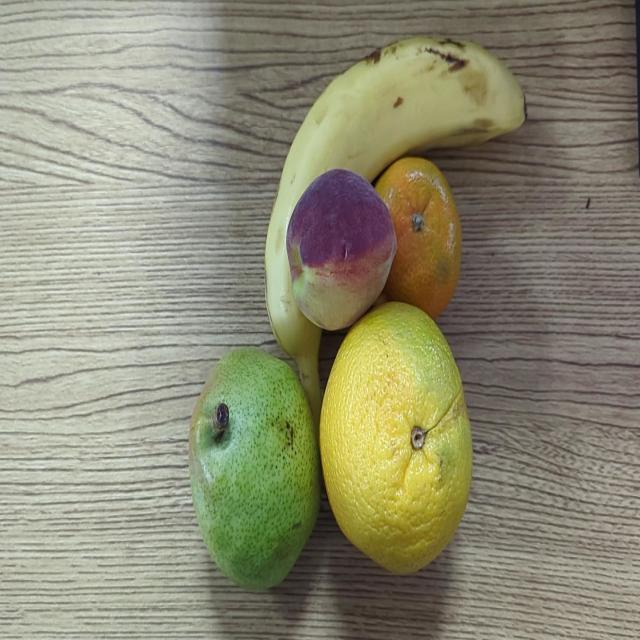Jeruk: (322, 307, 472, 575)
Jeruk Mandarin: (383, 157, 458, 317)
Persik: (290, 186, 396, 310)
Pir: (191, 346, 320, 596)
Pisang: (269, 38, 525, 324)
